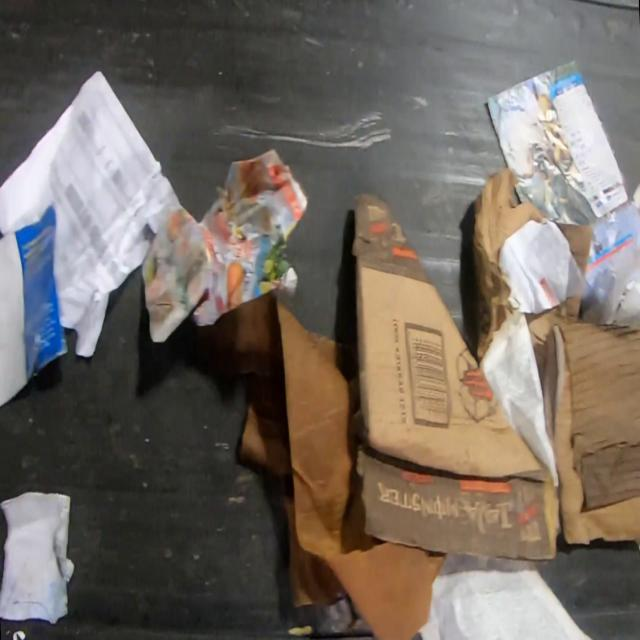cardboard: (215, 290, 450, 639), (349, 193, 556, 562), (542, 319, 640, 546), (472, 168, 545, 366), (524, 296, 582, 396), (556, 223, 594, 275)
soft_plastic: (598, 246, 640, 326)
